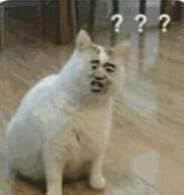cat: (6, 28, 130, 194)
